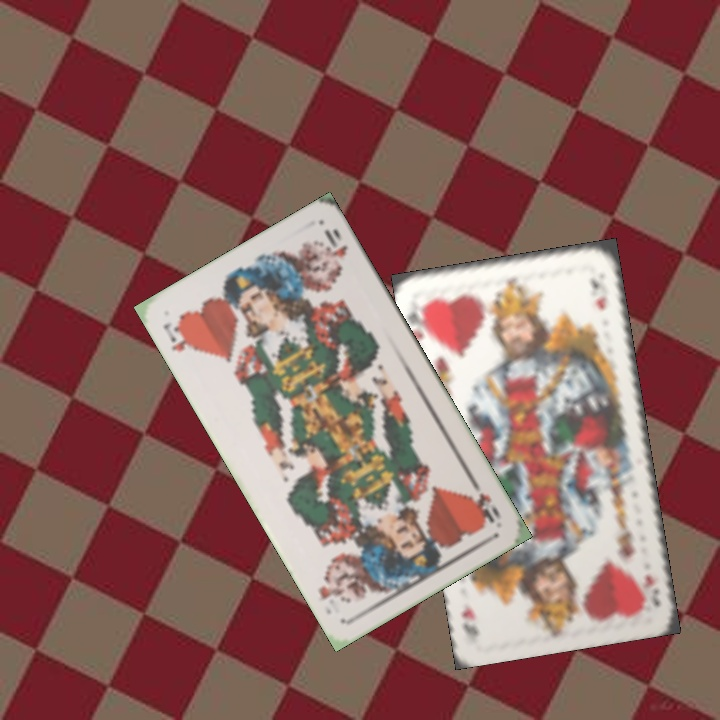HK: (404, 298, 436, 345), (638, 571, 663, 610)
HO: (464, 472, 503, 526), (159, 317, 198, 355)
